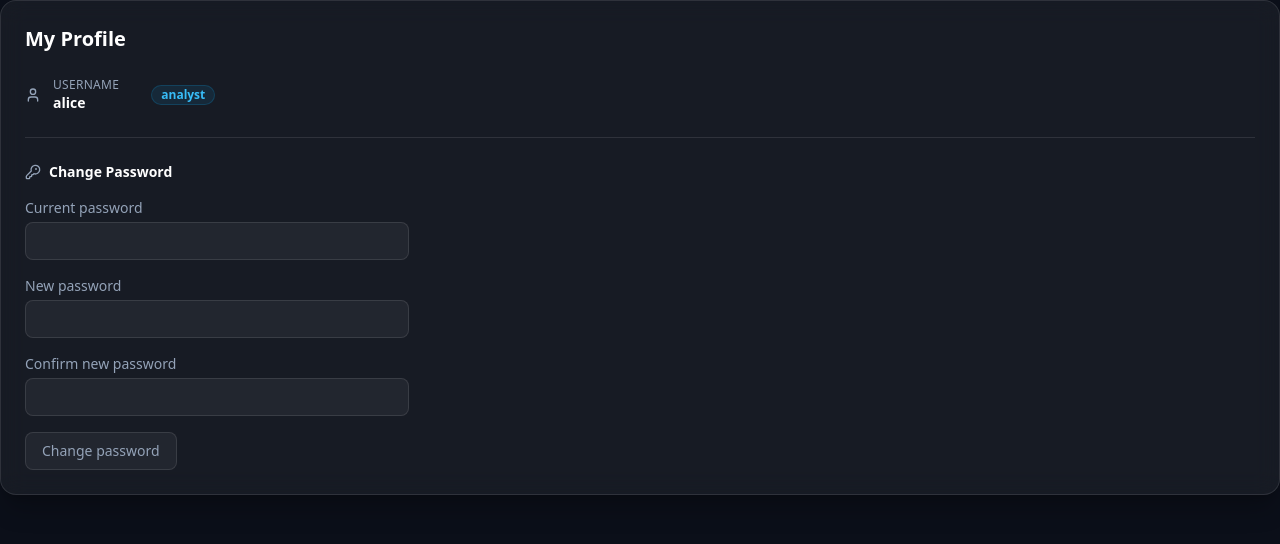
it: ProfileCard — client-side validation › shows required error when submitting empty form
Click the button "Change password" at (101, 451), box [25,432,177,470]
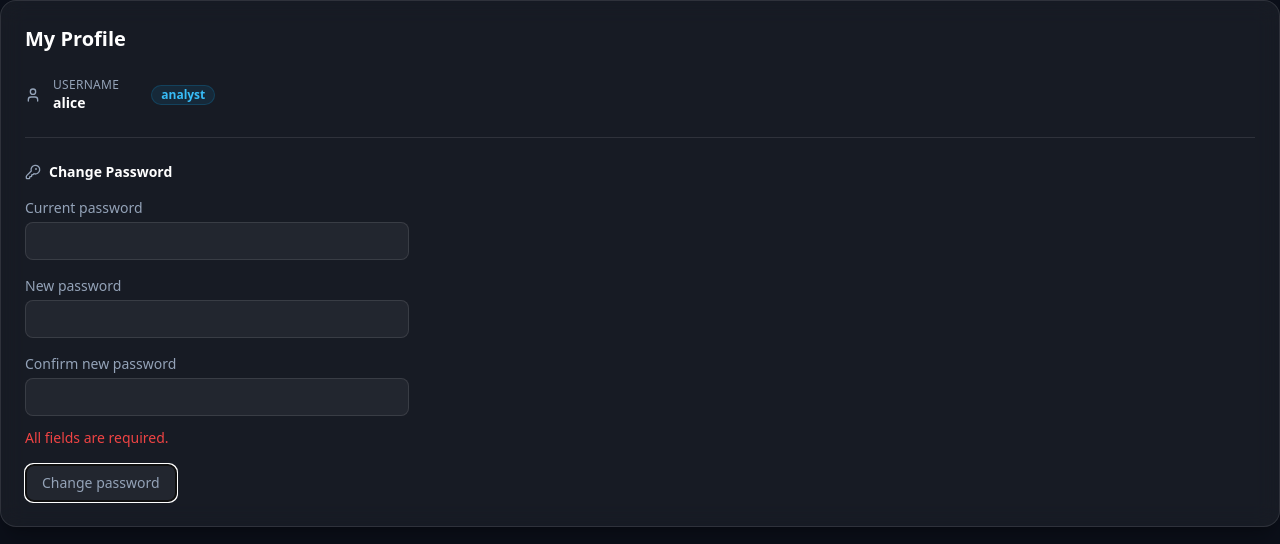
Expected: the message reads "All fields are required.", [25,428,169,447]
